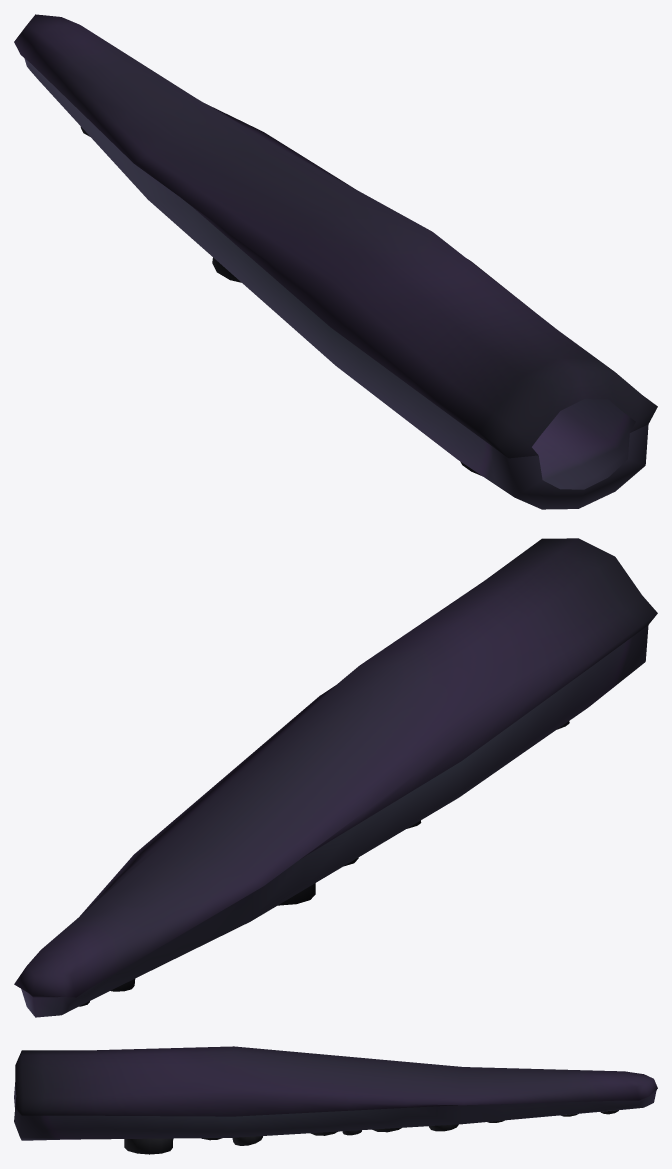
Rendered from TentaculoNormal.fbx.
3 renders of one model, top to bottom at view 1: azimuth 30°, elevation 25°; view 2: azimuth 150°, elevation 25°; view 3: azimuth 270°, elevation 25°, orthographic. The views are drawn at different scales.
Parts seen in each view (by area): view 1: Invoker.019; view 2: Invoker.019; view 3: Invoker.019.
Part boxes in pixels (<box>): Invoker.019: <box>14,14,657,509</box>; Invoker.019: <box>14,538,657,1017</box>; Invoker.019: <box>14,1046,657,1154</box>.
Bounding box in the file's own units: 241 × 227 × 1442.
